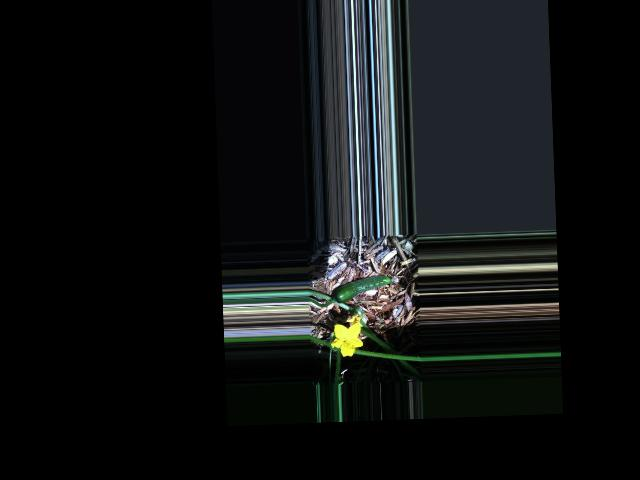cucumber: (332, 274, 397, 304)
